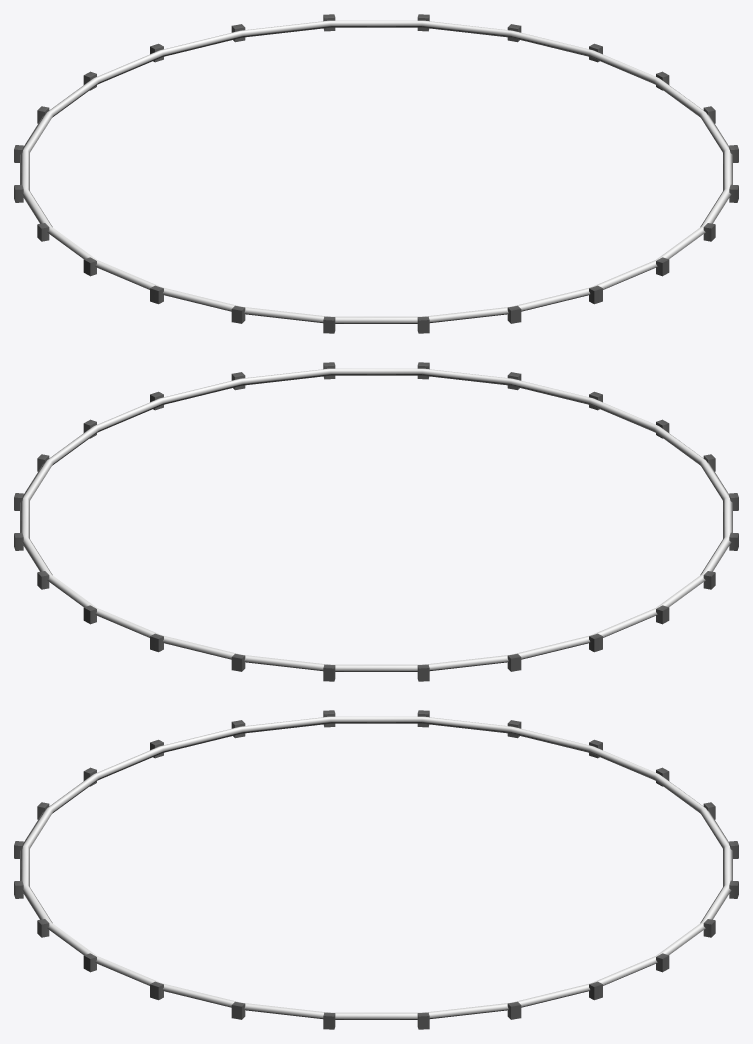
Rendered from Level_round.fbx.
3 renders of one model, top to bottom at view 1: azimuth 30°, elevation 25°; view 2: azimuth 150°, elevation 25°; view 3: azimuth 270°, elevation 25°, orthographic.
Parts seen in each view (by area): view 1: wall; view 2: wall; view 3: wall.
Part boxes in pixels (bbox=[...]): wall: bbox=[14, 14, 738, 333]; wall: bbox=[14, 362, 738, 681]; wall: bbox=[14, 710, 738, 1029].
Size of what is drawn, in the model's own units: 114 by 2.28 by 114.
